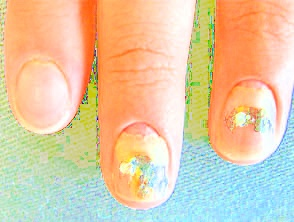SJS-TEN: (206, 67, 292, 169), (102, 110, 180, 213)
